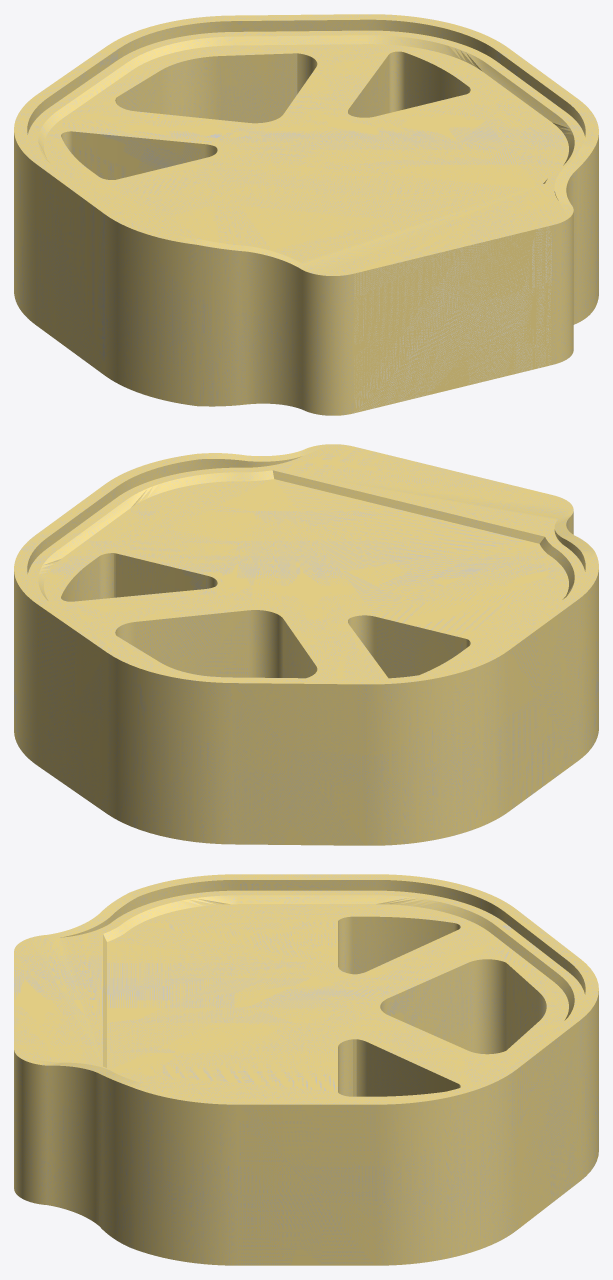
The model's file is original-12.obj.
3 renders of one model, top to bottom at view 1: azimuth 30°, elevation 25°; view 2: azimuth 150°, elevation 25°; view 3: azimuth 270°, elevation 25°, orthographic.
Parts seen in each view (by area): view 1: Group6/mesh32/mesh32-geometry#mesh32-geometry; view 2: Group6/mesh32/mesh32-geometry#mesh32-geometry; view 3: Group6/mesh32/mesh32-geometry#mesh32-geometry.
Part boxes in pixels (x1=…): Group6/mesh32/mesh32-geometry#mesh32-geometry: x1=14, y1=14, x2=598, y2=415; Group6/mesh32/mesh32-geometry#mesh32-geometry: x1=14, y1=444, x2=598, y2=845; Group6/mesh32/mesh32-geometry#mesh32-geometry: x1=14, y1=874, x2=598, y2=1265.
Bounding box in the file's own units: 1.17 × 0.3807 × 1.25.
